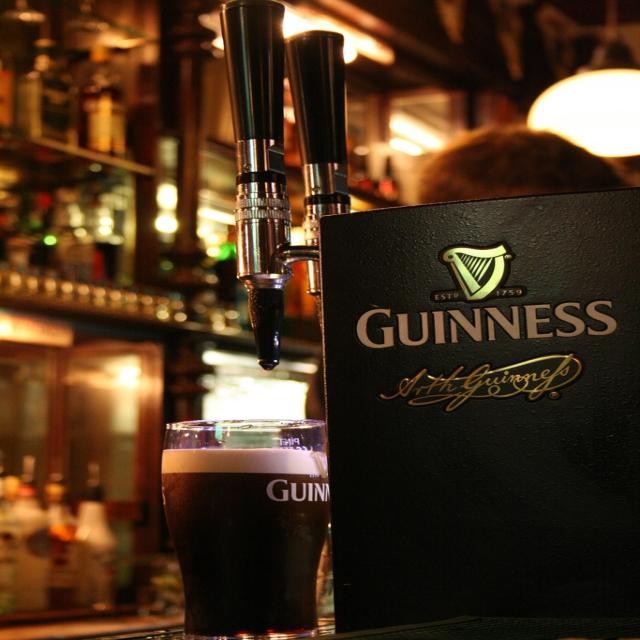guiness: (353, 243, 624, 353), (265, 450, 338, 504)
